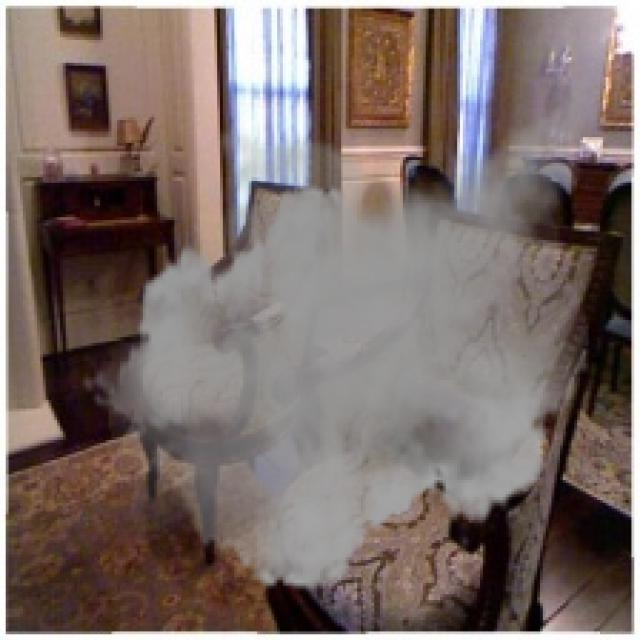smoke: (80, 40, 609, 606)
